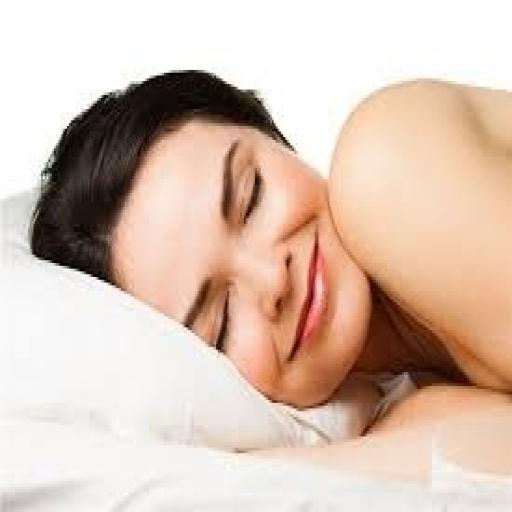sleeping: (26, 64, 510, 431)
